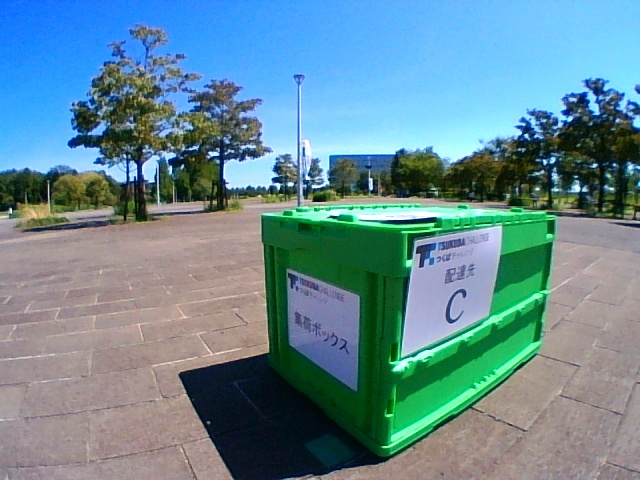green_box: (261, 203, 556, 457)
tag_c: (429, 258, 469, 325)
